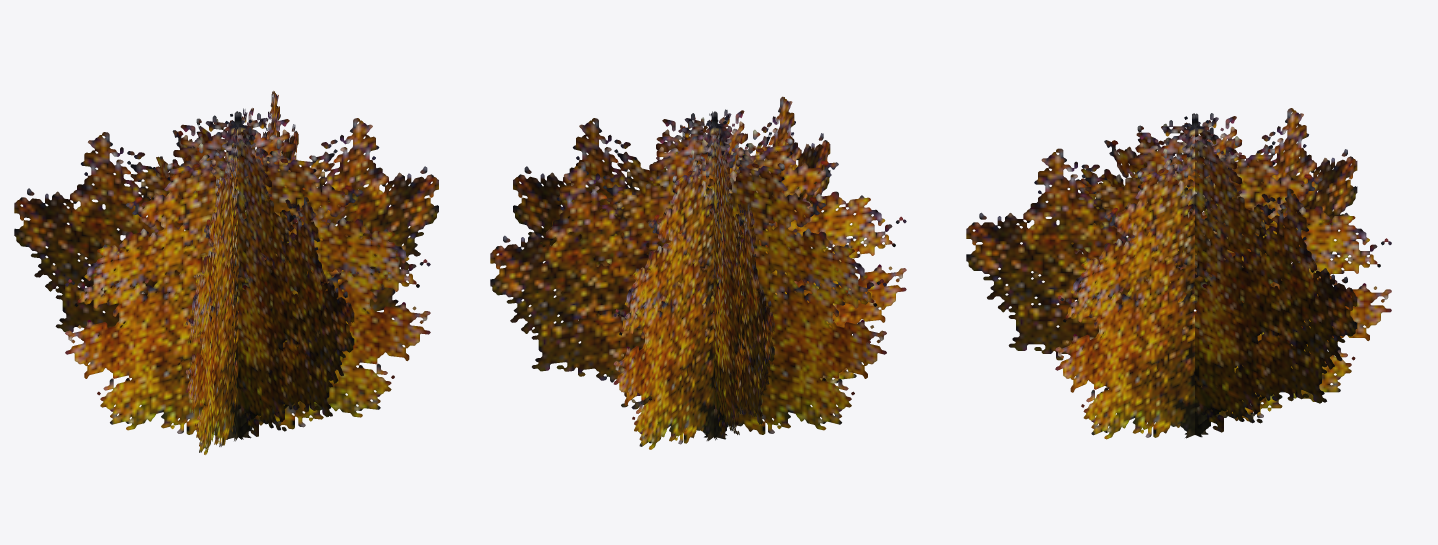
Rendered from bush05.glb.
3 renders of one model, left to right at view 1: azimuth 30°, elevation 25°; view 2: azimuth 150°, elevation 25°; view 3: azimuth 270°, elevation 25°, orthographic.
Visible parts, largest first — view 1: bush05; view 2: bush05; view 3: bush05.
Part boxes in pixels (x1,y1,x2,y2): bush05: (14,91,438,454); bush05: (490,96,906,449); bush05: (966,108,1391,439).
Size of the model in its own units: 9.6 by 7.5 by 9.6.
Materials: 1 (1 with a texture image).
